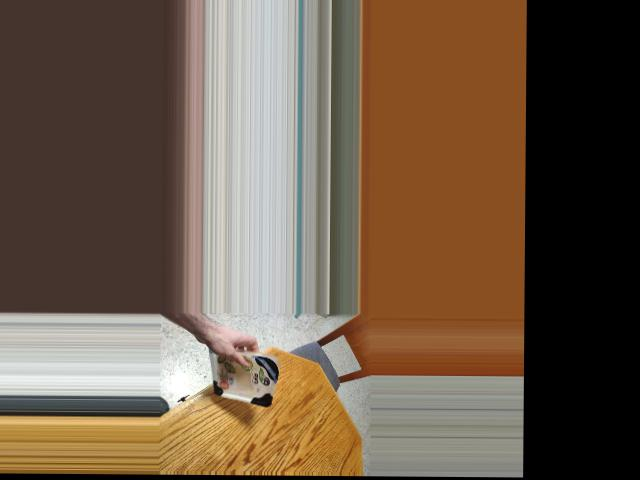cheese: (197, 346, 282, 402)
